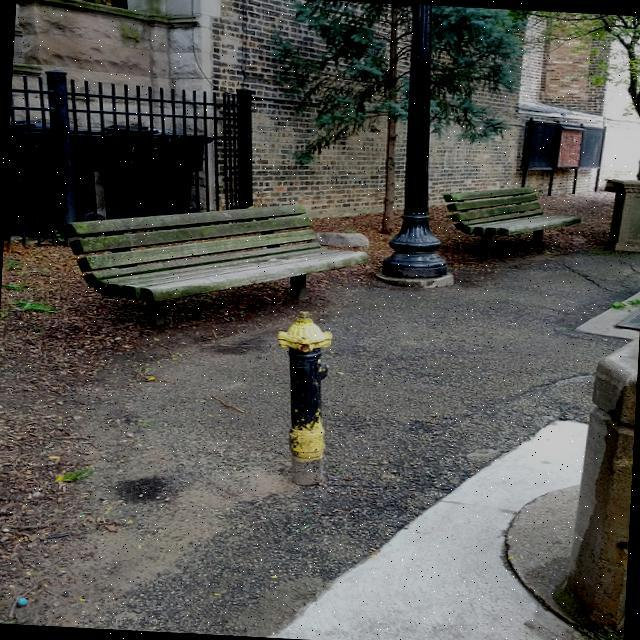fire_hydrant: (266, 309, 333, 486)
